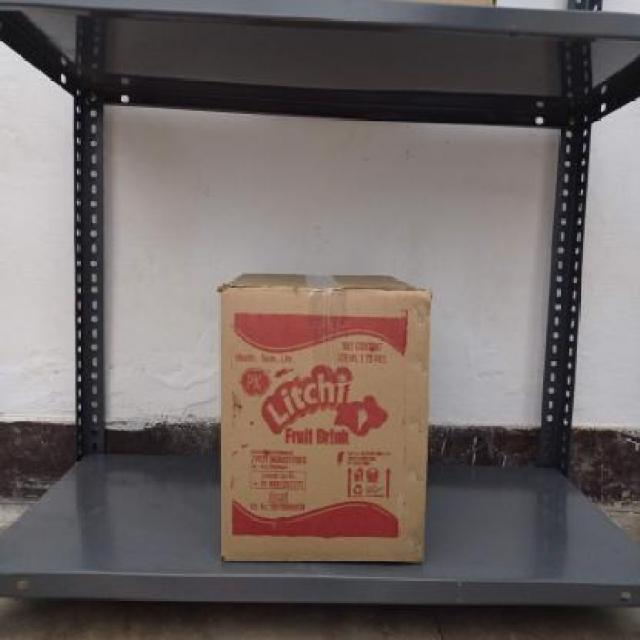box: (218, 284, 424, 562)
